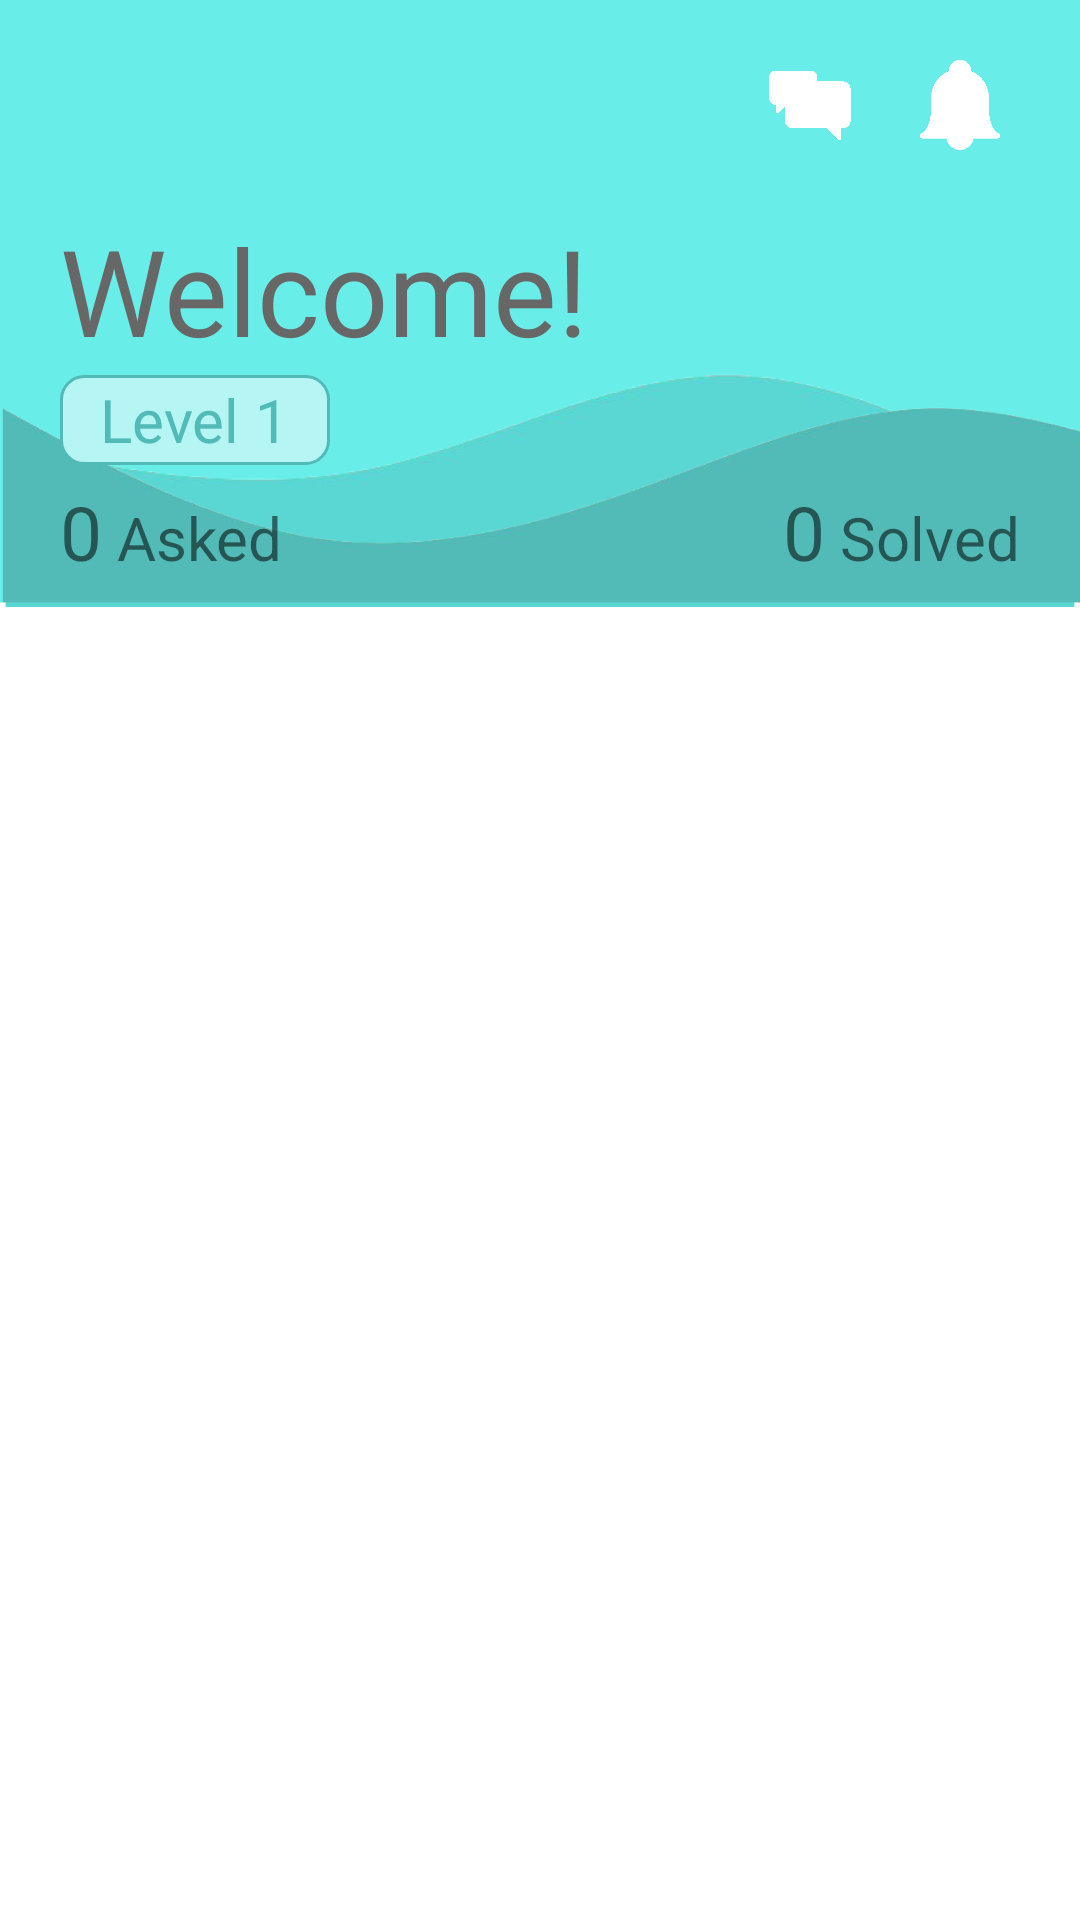

Where to tap for icons on this 1080x1920 app screen, as (x,y):
bell: (960,105)
chat: (810,105)
